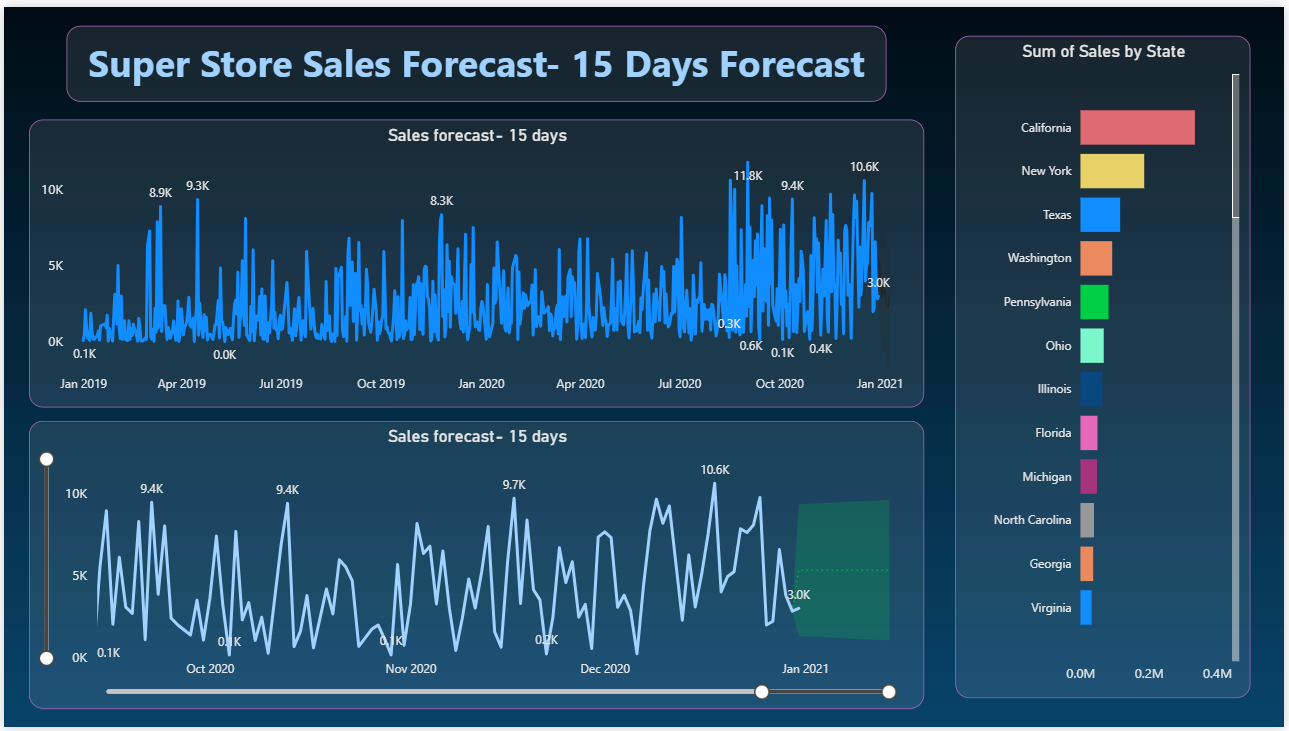

This screenshot's page, from the dashboard's own definition file:
{"tool":"powerbi","page":{"name":"Page 2","canvas":[1280,720],"ordinal":1},"visuals":[{"type":"lineChart","title":"Sales forecast- 15 days","fields":{"Y":["Sum(SuperStore_Sales_Dataset.Sales)"],"Category":["SuperStore_Sales_Dataset.Order Date"]},"box":[25.3,112.2,895.2,288.3],"z":0},{"type":"clusteredBarChart","fields":{"Category":["SuperStore_Sales_Dataset.State"],"Y":["Sum(SuperStore_Sales_Dataset.Sales)"]},"box":[950.7,29,295.6,662.3],"z":1000},{"type":"lineChart","title":"Sales forecast- 15 days","fields":{"Y":["Sum(SuperStore_Sales_Dataset.Sales)"],"Category":["SuperStore_Sales_Dataset.Order Date"]},"box":[25.3,413.8,895.2,288.3],"z":2000},{"type":"textbox","box":[62.7,19.3,820.4,76],"z":3000}]}

Visuals, with their boxes in screenshot pixels (x1, y1, x2, y2), scaled from the page's 1280x720 canvas onto the 1289x731 screenshot:
"Sales forecast- 15 days" lineChart: bbox=(25, 114, 927, 407)
clusteredBarChart - SuperStore_Sales_Dataset.State x Sum(SuperStore_Sales_Dataset.Sales): bbox=(957, 29, 1255, 702)
"Sales forecast- 15 days" lineChart: bbox=(25, 420, 927, 713)
textbox: bbox=(63, 20, 889, 97)
